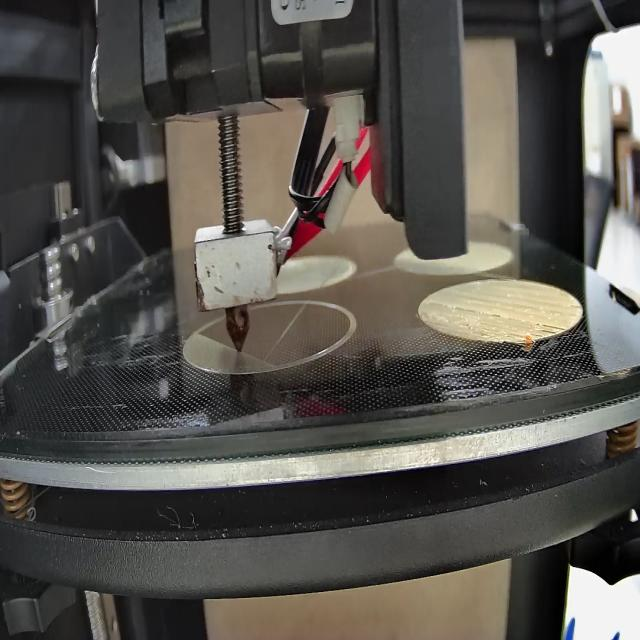under_extrusion: (430, 300, 503, 322), (529, 317, 566, 340), (566, 300, 583, 314)
